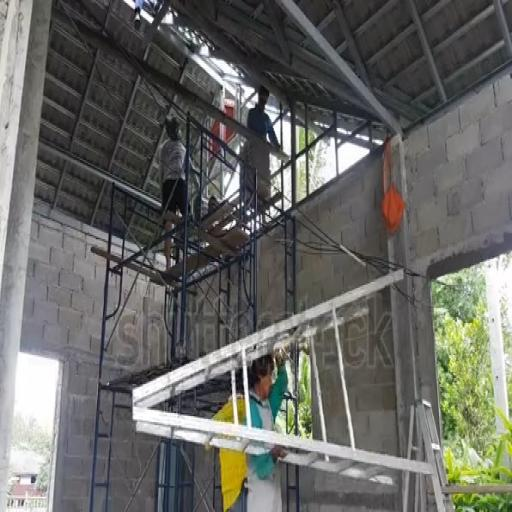head and helmet: (249, 356, 274, 400), (165, 118, 180, 140), (258, 86, 269, 109)
